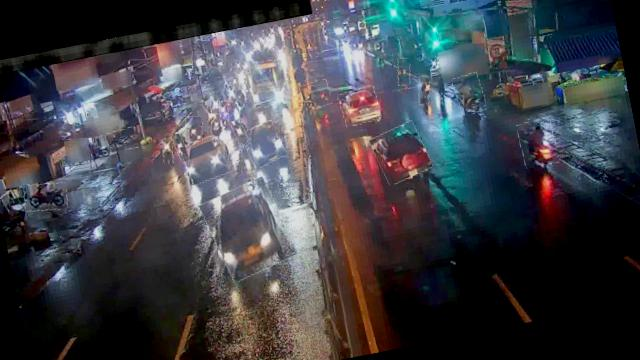Bike: (516, 116, 560, 168), (22, 178, 70, 214), (453, 72, 488, 116), (300, 78, 333, 110), (106, 127, 138, 153), (182, 114, 205, 144), (172, 130, 190, 162), (416, 76, 434, 106), (395, 57, 413, 87), (232, 118, 250, 148), (208, 112, 226, 140), (160, 138, 176, 165), (217, 100, 232, 126), (209, 92, 222, 114), (226, 82, 237, 102)
Car: (200, 176, 296, 281), (370, 121, 432, 185), (180, 133, 232, 184), (240, 120, 286, 168), (338, 84, 382, 128)
Truck: (248, 57, 290, 109)
